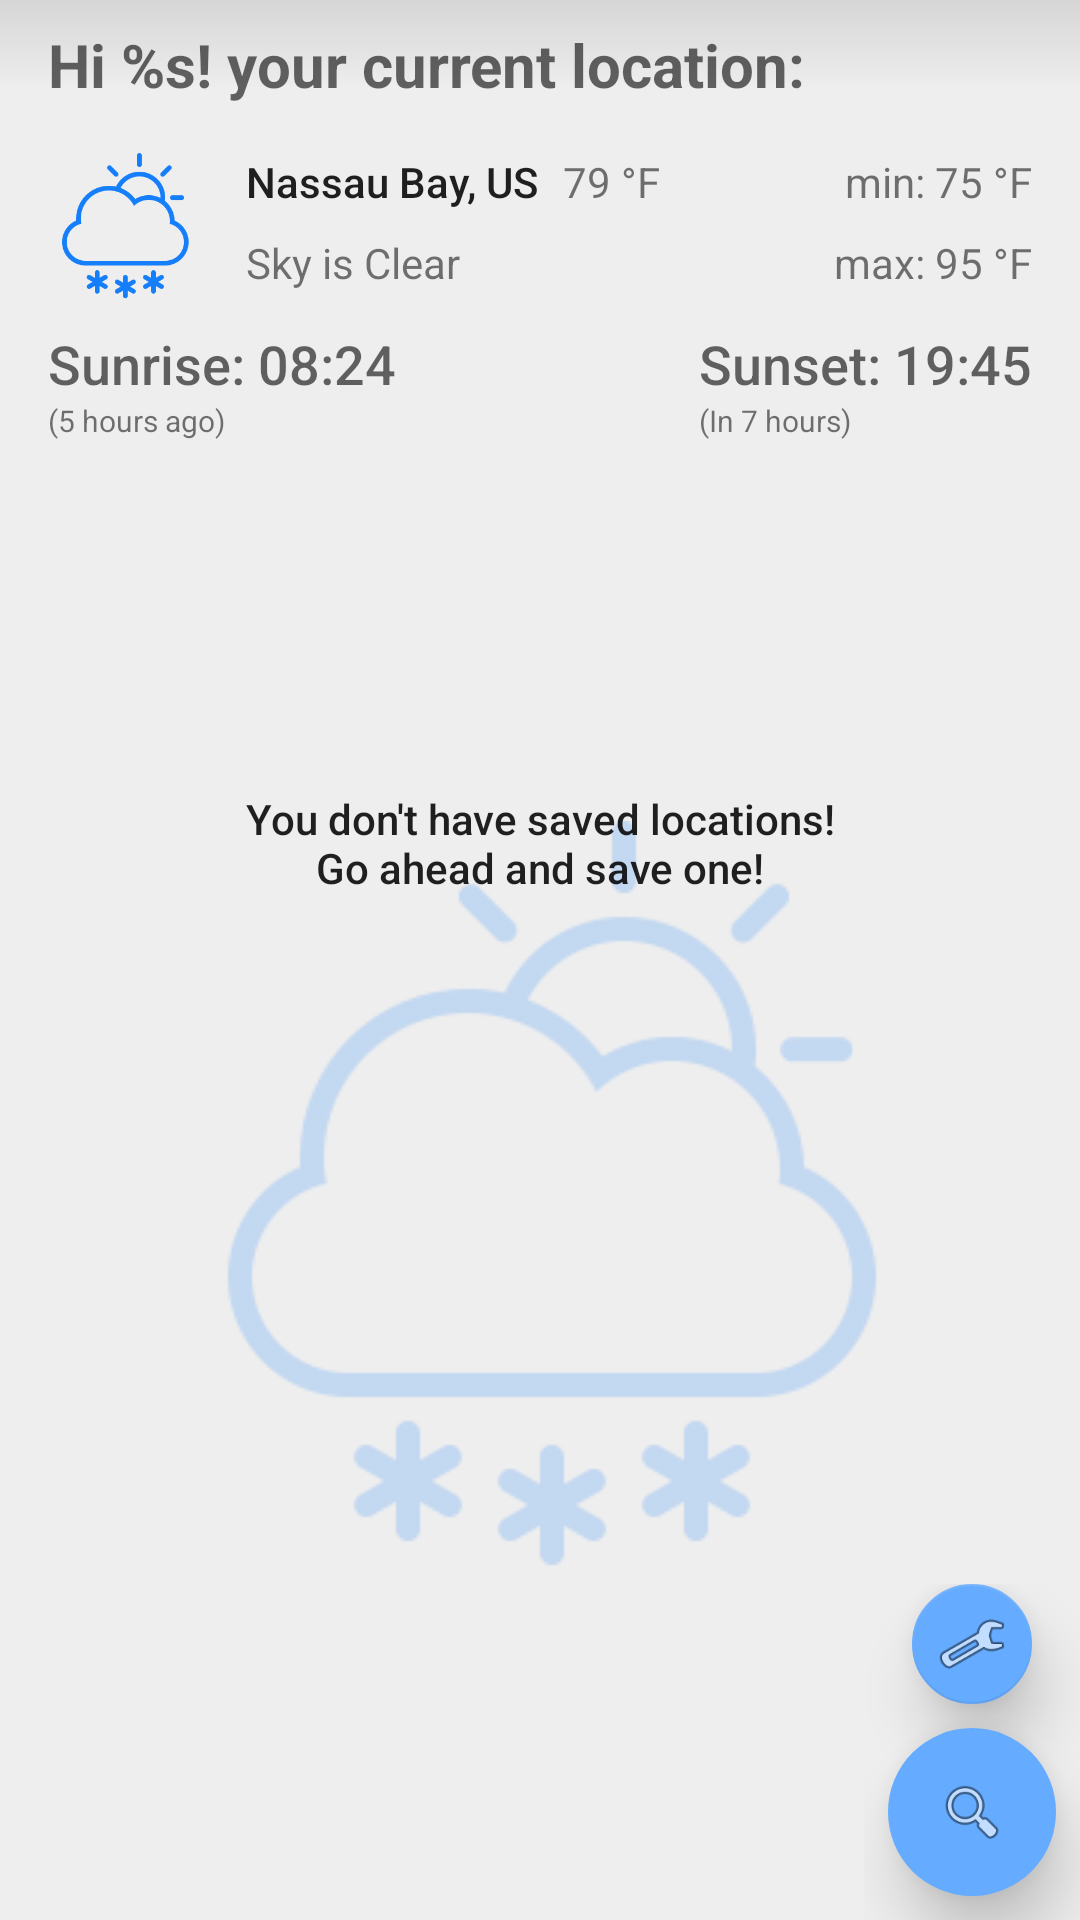

Where icons sit on this 1080px×1920px app screen, as (x1, y1, x2, y2):
preferences: (912, 1584, 1032, 1704)
search: (888, 1728, 1056, 1896)
